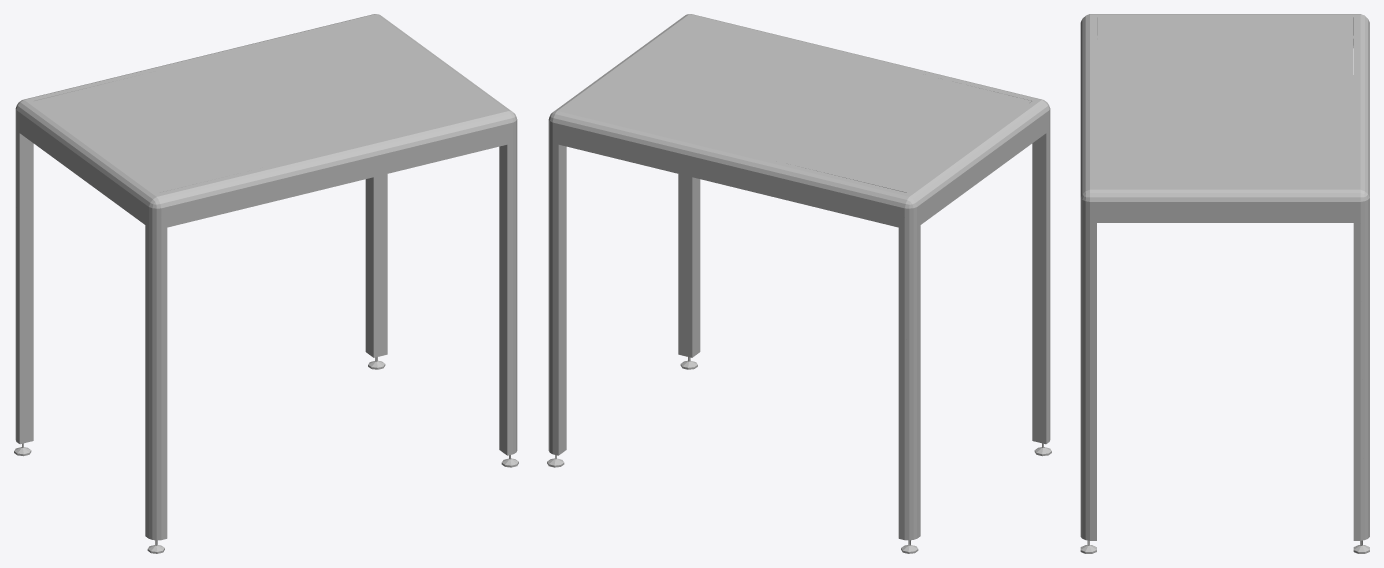
File: TableDome.dae
The picture shows the model from 3 angles, left to right: view 1: azimuth 30°, elevation 25°; view 2: azimuth 150°, elevation 25°; view 3: azimuth 270°, elevation 25°; orthographic projection. The views are drawn at different scales.
Visible parts, largest first — view 1: node; view 2: node; view 3: node.
Boxes of the visible parts, x1=… form: node: x1=14, y1=14, x2=518, y2=553; node: x1=547, y1=14, x2=1051, y2=553; node: x1=1080, y1=14, x2=1369, y2=553.
Size of the model in its own units: 12.02 by 11 by 8.01.
Materials: 1 (1 with a texture image).
